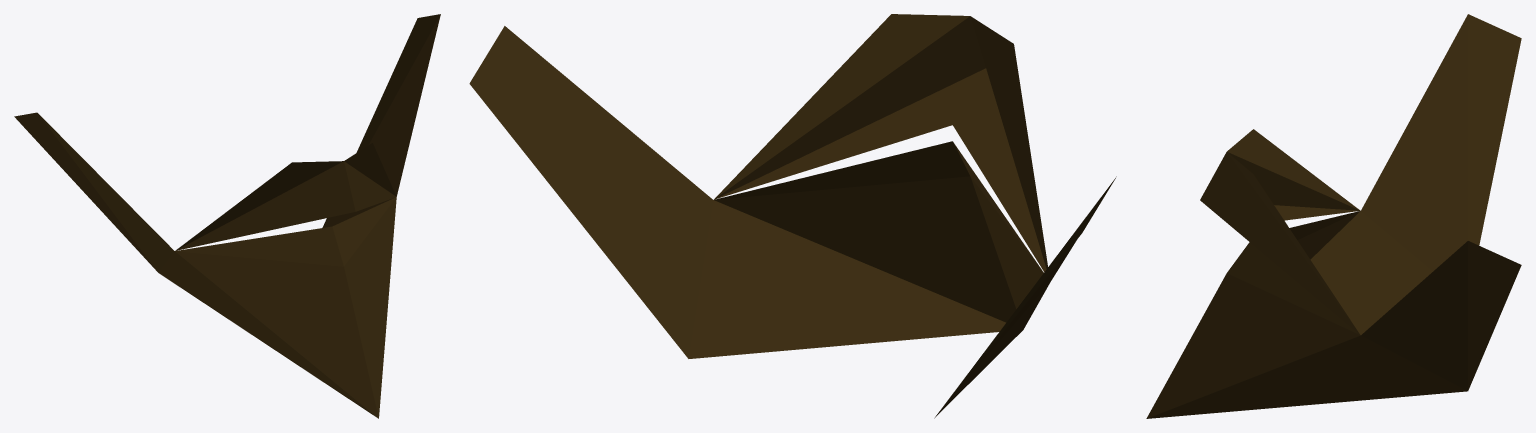
File: model_85_idk_head.obj
3 views of the same model, side by side, from view 1: azimuth 30°, elevation 25°; view 2: azimuth 150°, elevation 25°; view 3: azimuth 270°, elevation 25° (orthographic). The views are drawn at different scales.
Parts seen in each view (by area): view 1: 85; view 2: 85; view 3: 85.
Boxes of the visible parts, left/top/right/bottom form: 85: left=14, top=14, right=440, bottom=418; 85: left=469, top=14, right=1116, bottom=418; 85: left=1146, top=14, right=1521, bottom=418.
Bounding box in the file's own units: 80 × 48 × 56.
